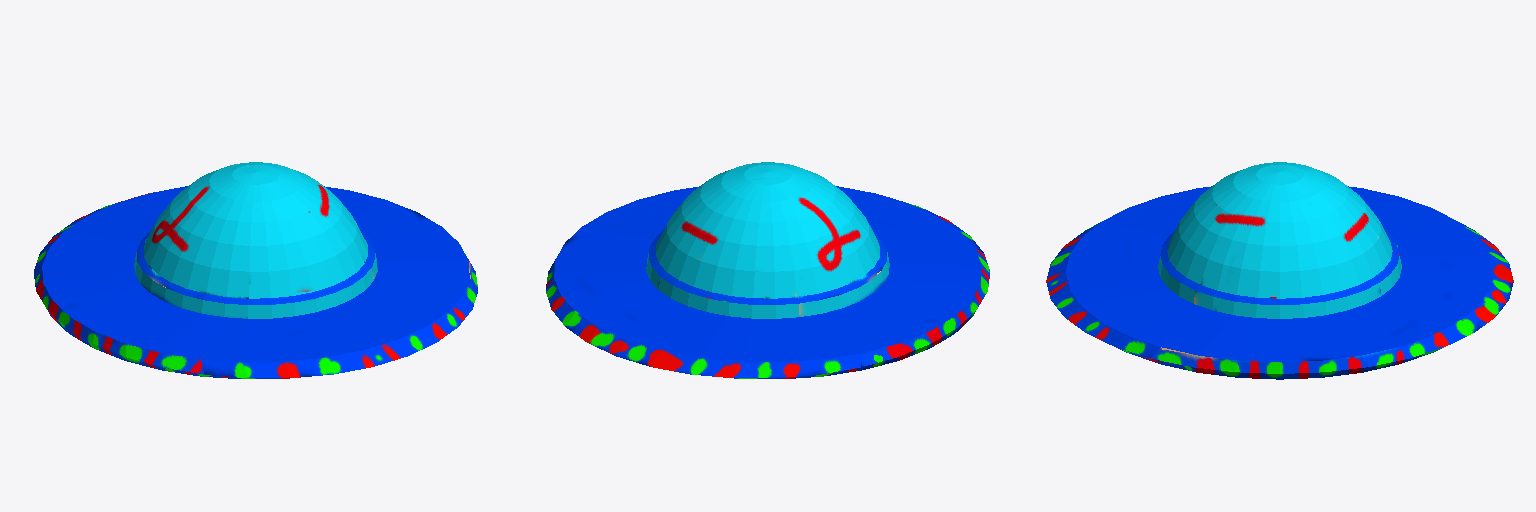
3 renders of one model, left to right at view 1: azimuth 30°, elevation 25°; view 2: azimuth 150°, elevation 25°; view 3: azimuth 270°, elevation 25°, orthographic.
Visible parts, largest first — view 1: 球; view 2: 球; view 3: 球.
Boxes of the visible parts, <box> form: 球: <box>34,162,477,378</box>; 球: <box>546,162,989,378</box>; 球: <box>1046,162,1513,379</box>.
Size of the model in its own units: 8.48 by 3.58 by 9.06.
1 materials, 1 textured.